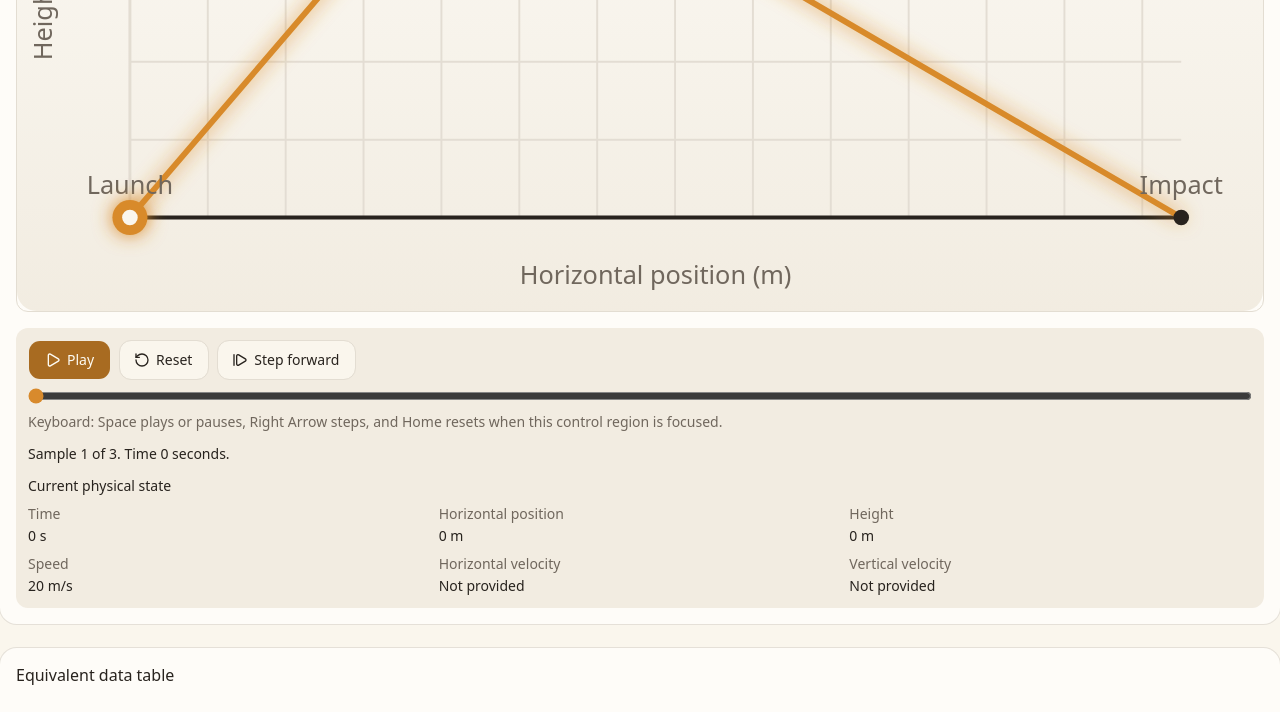
accessible simulation preview › advances playback without stale state and stops at the final sample
(page scrolled)
Click the button with aria-label "Play simulation" at [70, 360], box [28,340,111,380]
Wait 2000 ms
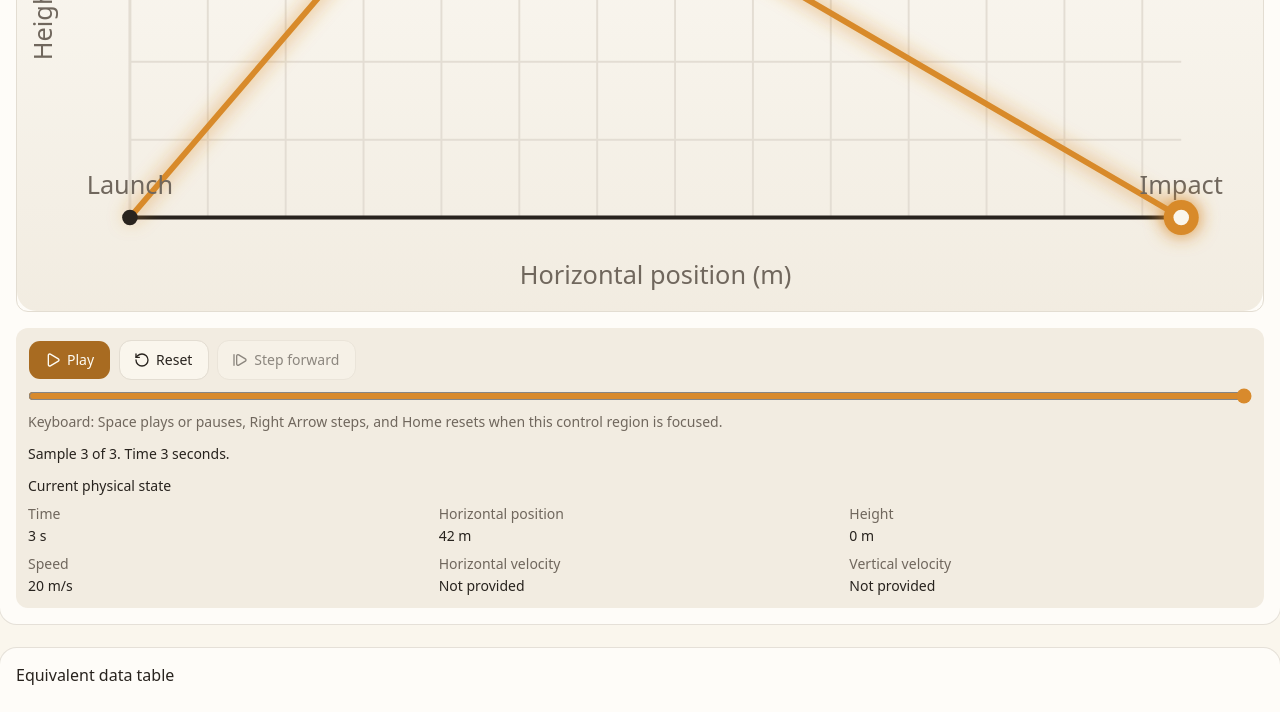
Expected: the message shows "Sample 3 of 3", [28,444,230,463]
